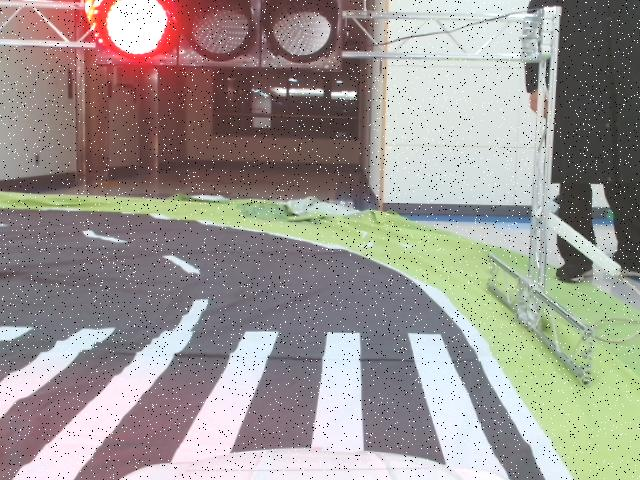crosswalk: (0, 324, 514, 480)
traffic light-red-: (88, 0, 342, 72)
